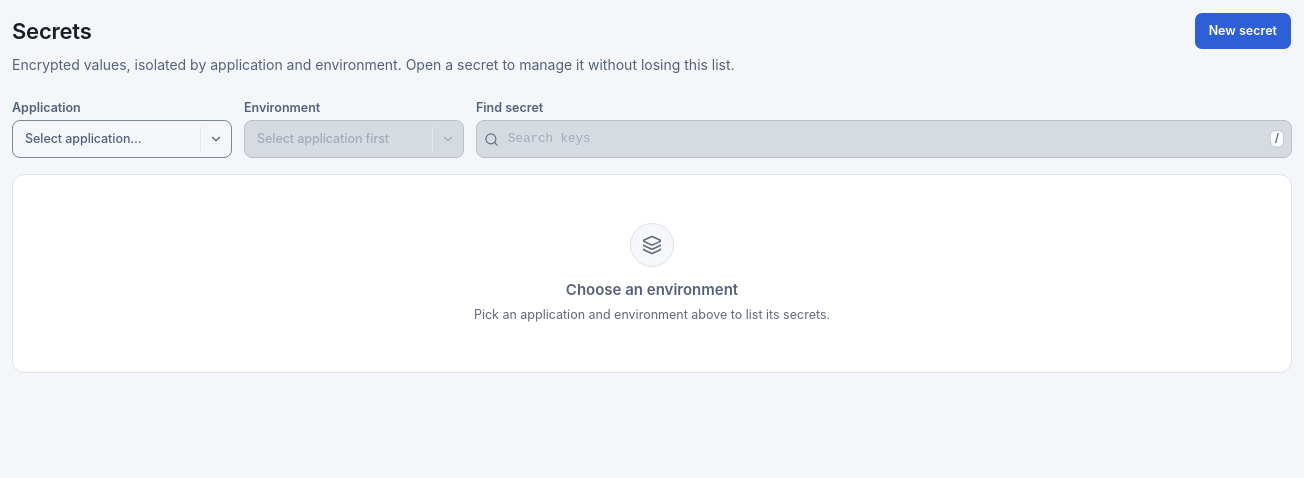
secret list search › clears the rows it was showing when the index load fails
The image size is (1304, 478).
Step 1. Click the dropdown labelled "application" → (122, 139), box x1=12 y1=120 x2=232 y2=158
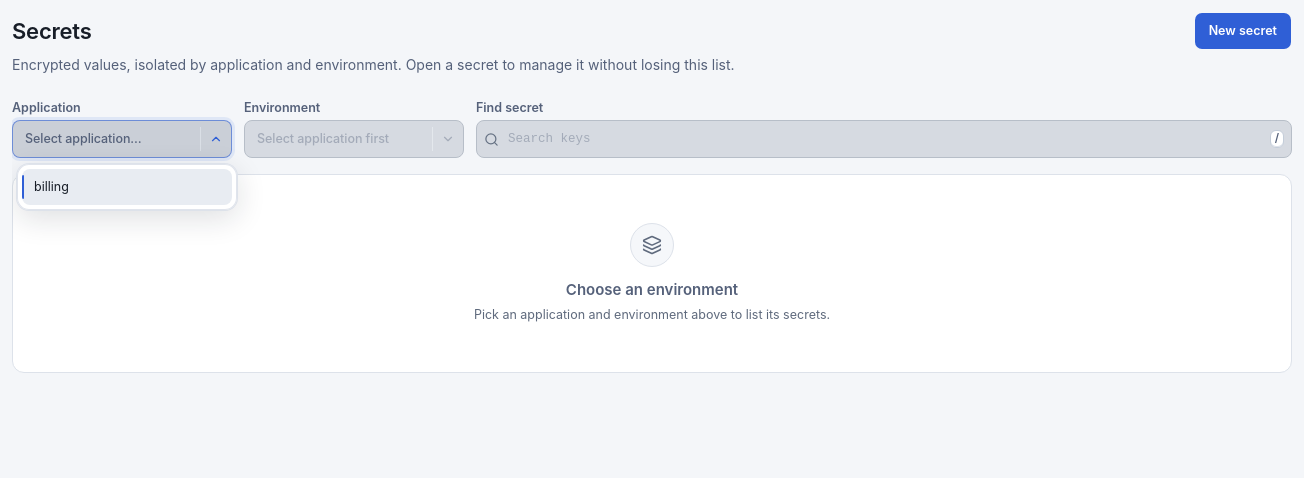
Step 2. Click the option "billing" → (127, 187), box x1=22 y1=169 x2=232 y2=205
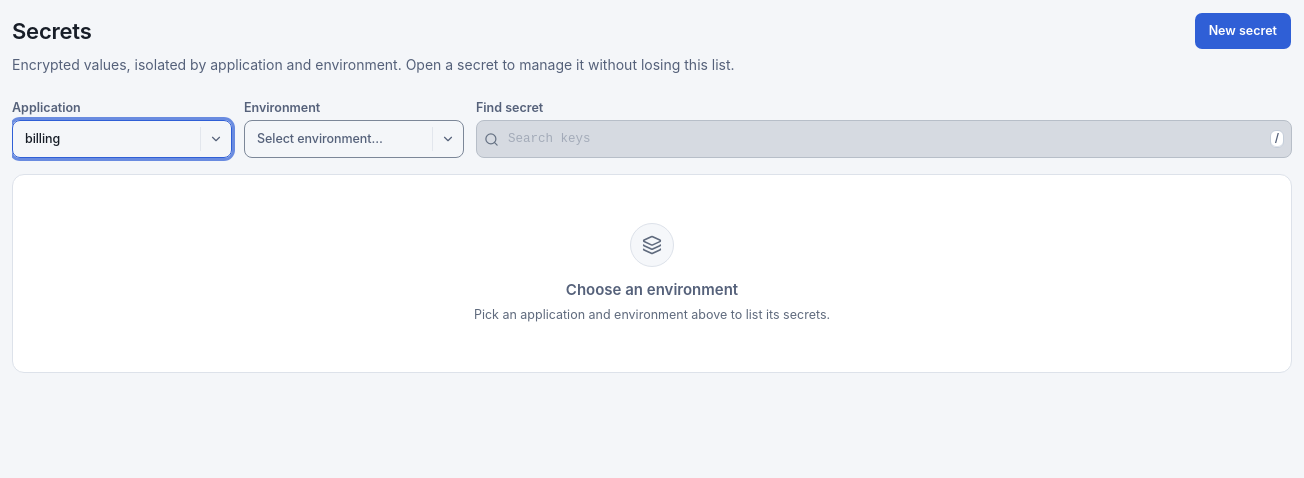
Step 3. Click the dropdown labelled "environment" → (354, 139), box x1=244 y1=120 x2=464 y2=158
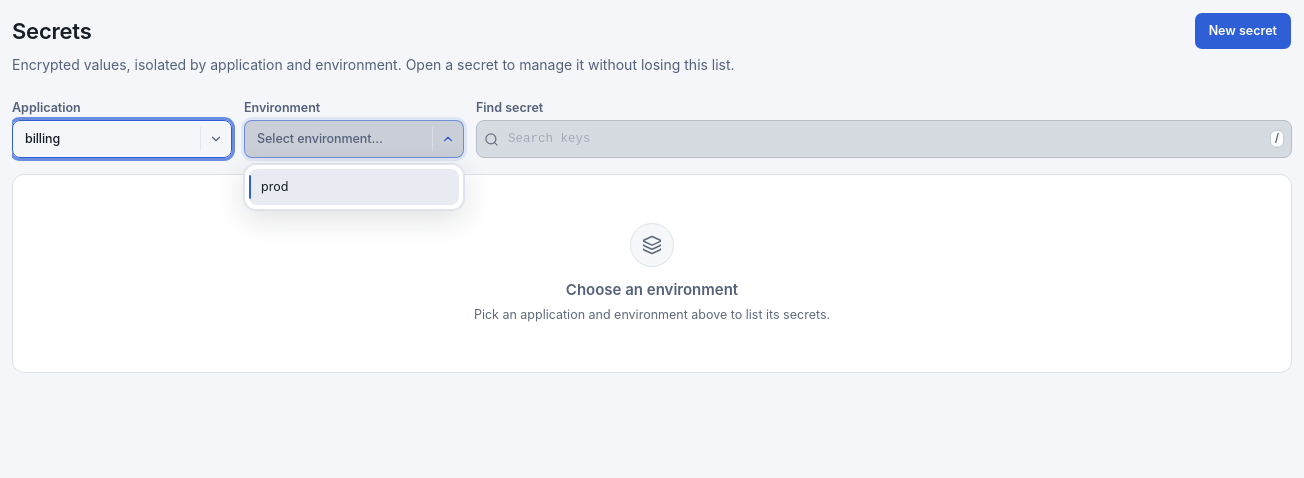
Step 4. Click the option "prod" → (354, 187), box x1=249 y1=169 x2=459 y2=205
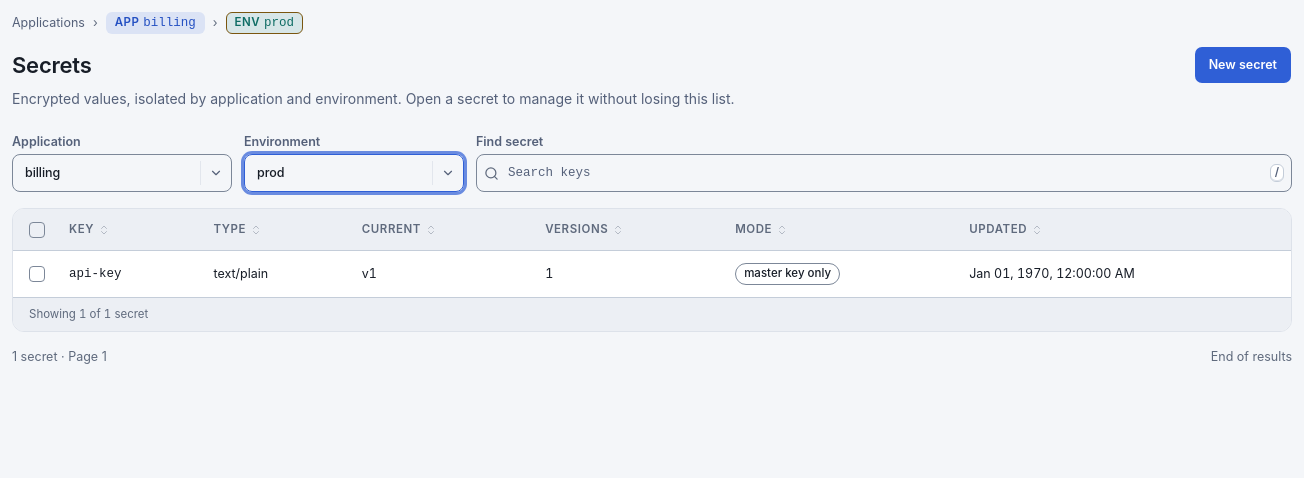
expect the link "api-key" is shown: met, box x1=69 y1=267 x2=122 y2=281
Step 5. Type "api" into the search field labelled "Find secret" → (884, 173), box x1=476 y1=154 x2=1292 y2=192
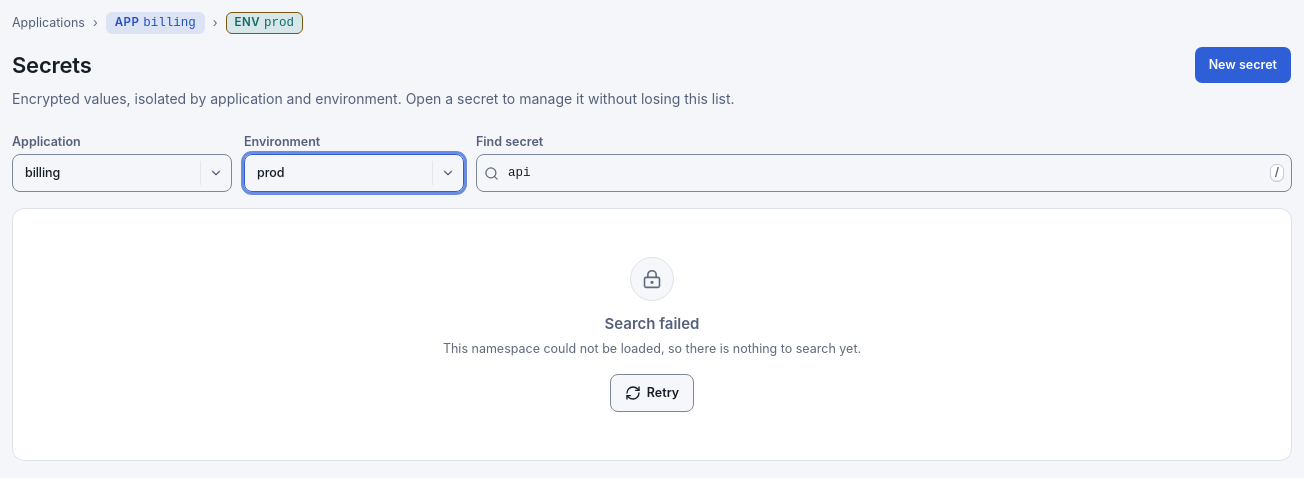
expect the text "Search failed" is shown: met, box x1=604 y1=314 x2=700 y2=333
expect the link "api-key" is gone: met
